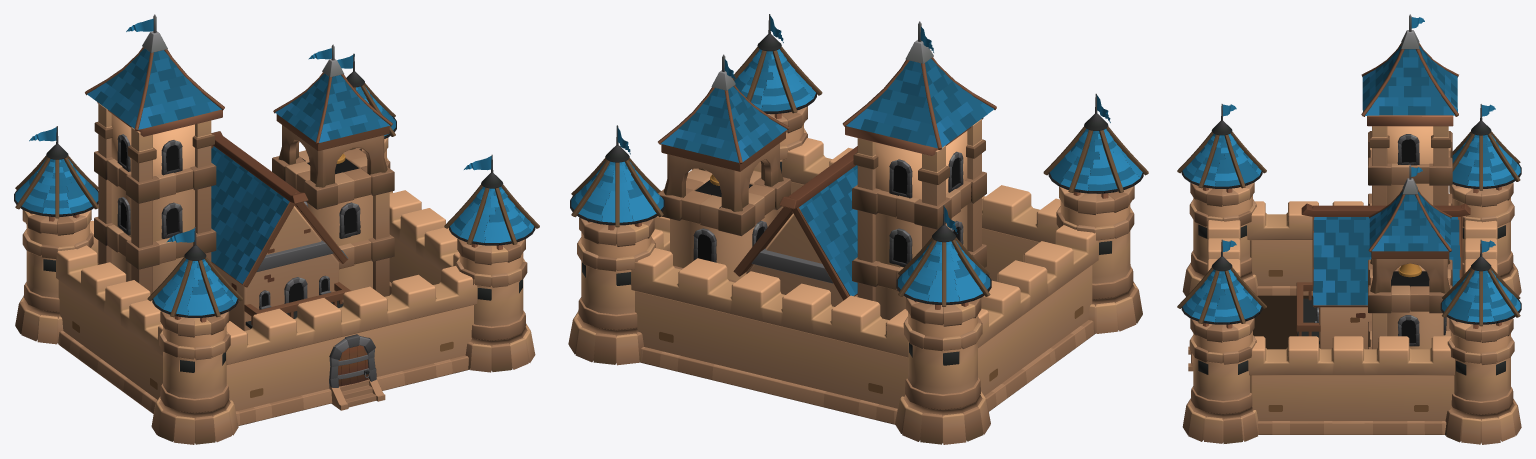
The model's file is MainBigCastle_2.fbx.
3 renders of one model, left to right at view 1: azimuth 30°, elevation 25°; view 2: azimuth 150°, elevation 25°; view 3: azimuth 270°, elevation 25°, orthographic. The views are drawn at different scales.
Visible parts, largest first — view 1: MainBigCastle_2; view 2: MainBigCastle_2; view 3: MainBigCastle_2.
Boxes of the visible parts, box(x1,y1,x2,y2) form: MainBigCastle_2: box(14, 14, 539, 444); MainBigCastle_2: box(568, 14, 1148, 444); MainBigCastle_2: box(1177, 14, 1521, 444).
Bounding box in the file's own units: 1412 × 1163 × 1184.
